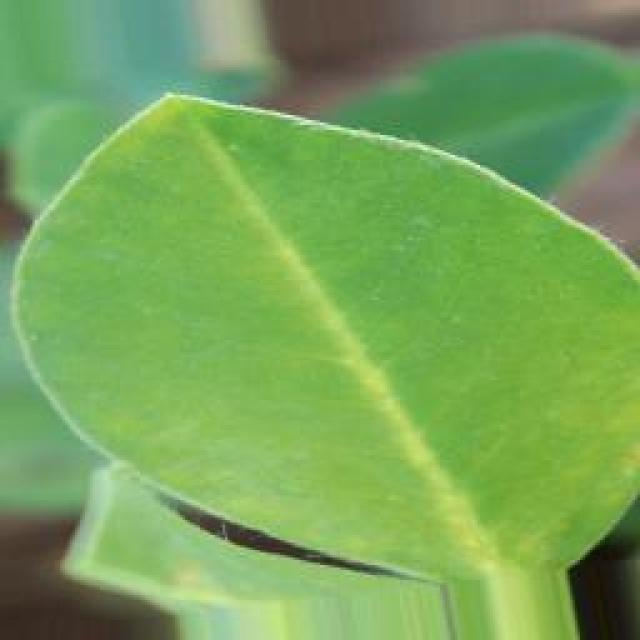Yellow_and_black_sigatoka: (12, 71, 640, 601)
